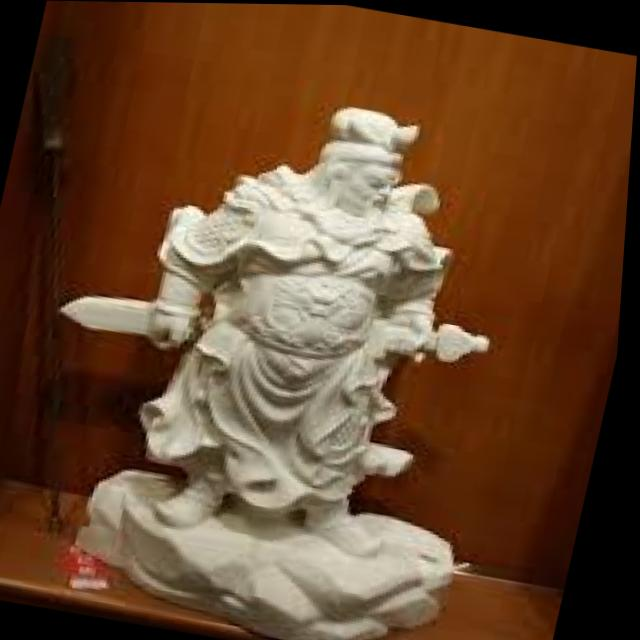Guan Yu: (109, 76, 485, 536)
